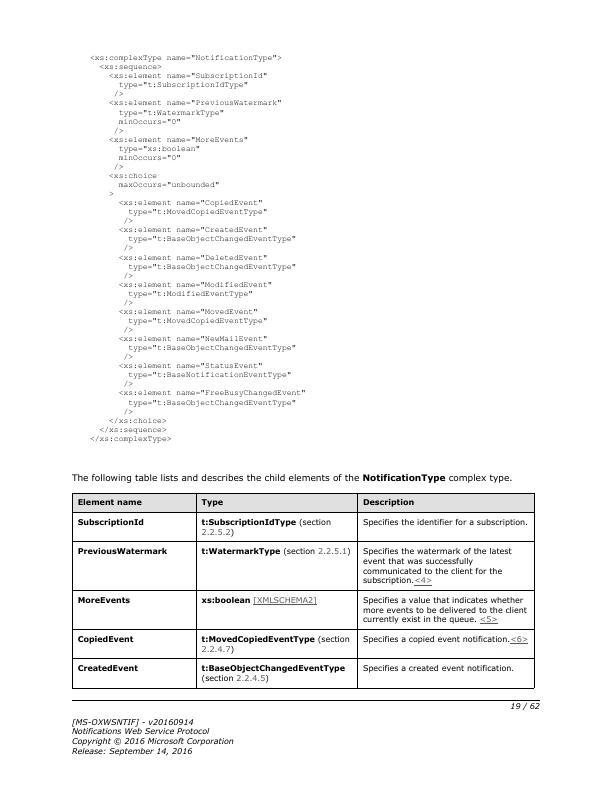table: (70, 493, 537, 692)
text: (86, 52, 309, 444), (68, 470, 514, 486), (68, 716, 235, 758)
